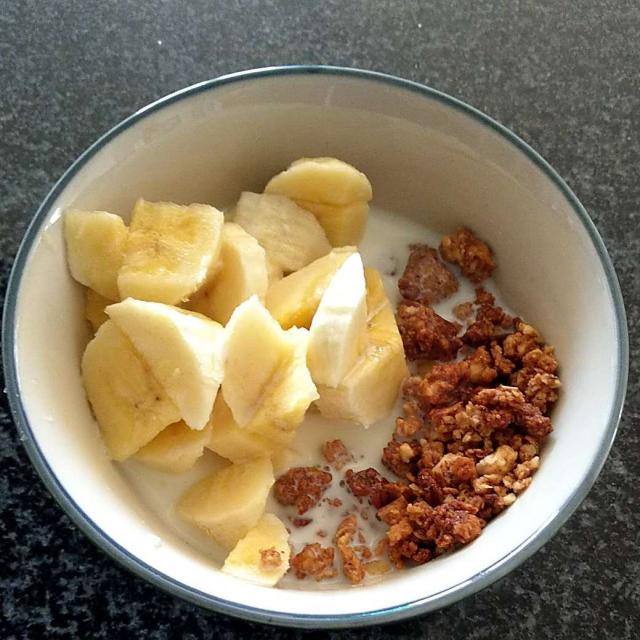banana: (76, 153, 417, 588)
